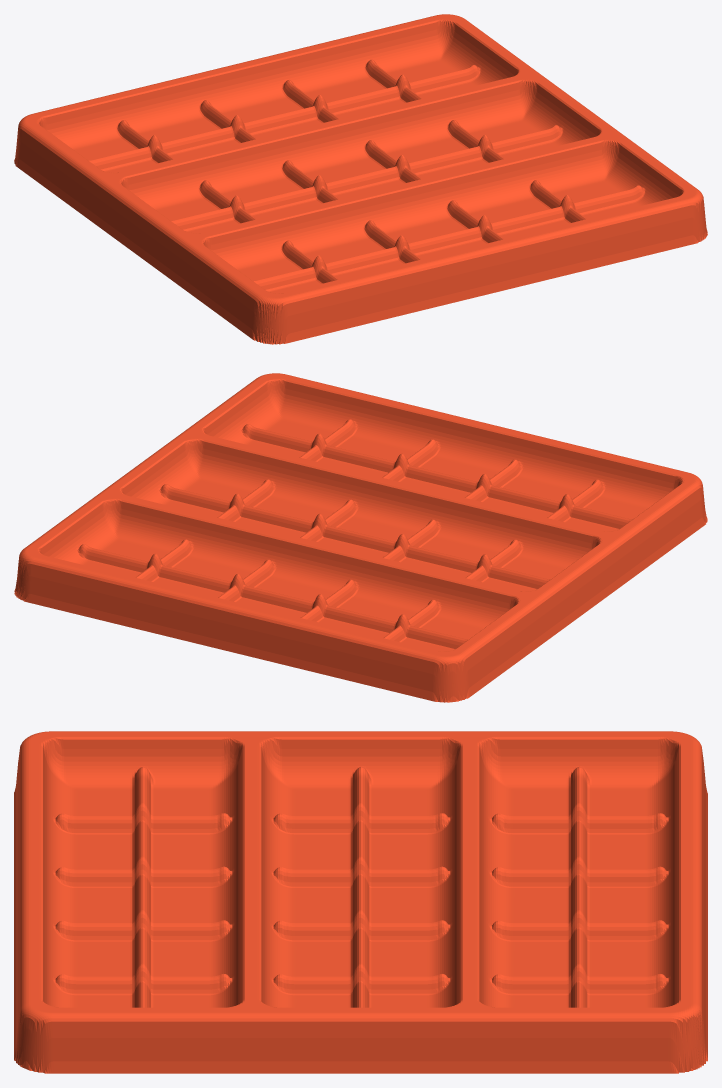
File: mold.glb
3 views of the same model, one above another, from view 1: azimuth 30°, elevation 25°; view 2: azimuth 150°, elevation 25°; view 3: azimuth 270°, elevation 25° (orthographic). The views are drawn at different scales.
Parts seen in each view (by area): view 1: geometry_0; view 2: geometry_0; view 3: geometry_0.
Boxes of the visible parts, x1=… form: geometry_0: x1=14, y1=14, x2=707, y2=344; geometry_0: x1=14, y1=373, x2=707, y2=702; geometry_0: x1=14, y1=731, x2=707, y2=1073.
Bounding box in the file's own units: 0.167 × 0.0145 × 0.167.
